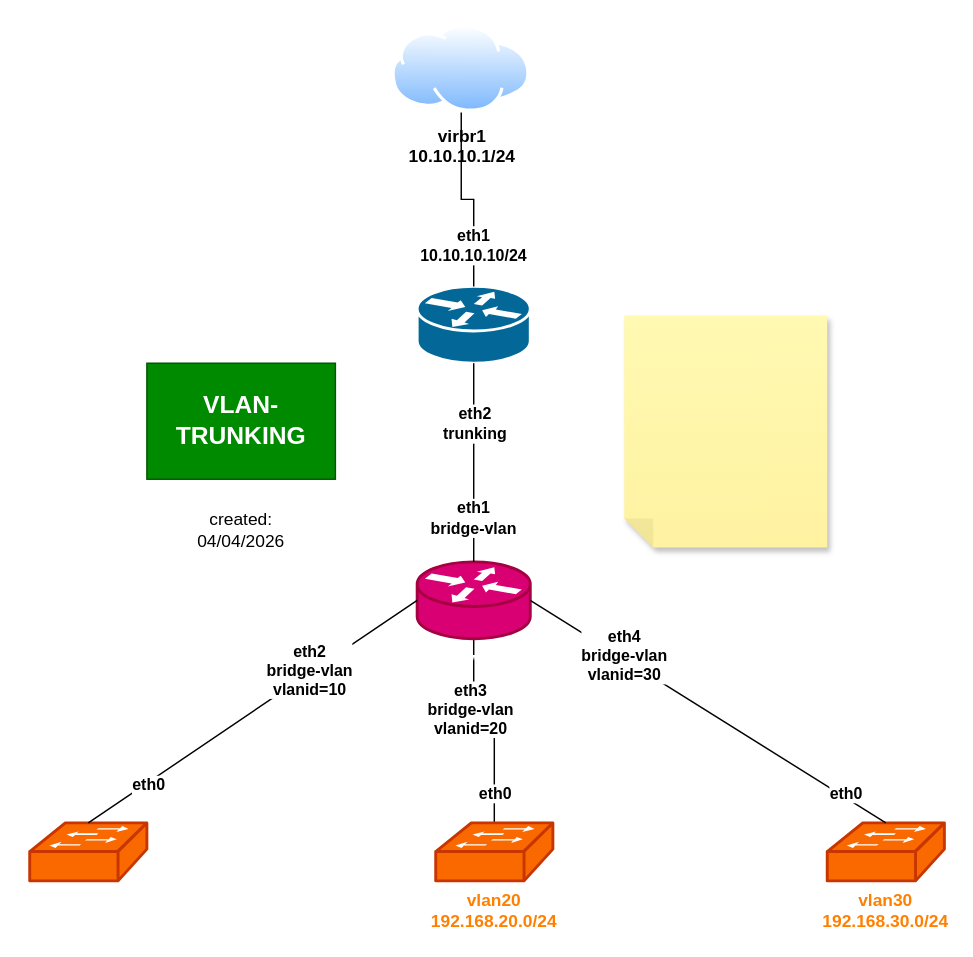
Image size: 973x957. Some labels were removed from this diagram. The shapes that lost their labels are listed below. From the top down, each one's centre as x and y in pixels, then its label:
the point at 473,324: mikrotik-router
the point at 726,433: ether2 trunking: vlan10 = id 10 vlan20 = id 20 vlan30 = id 30
the point at 88,851: vlan10 192.168.10.0/24
